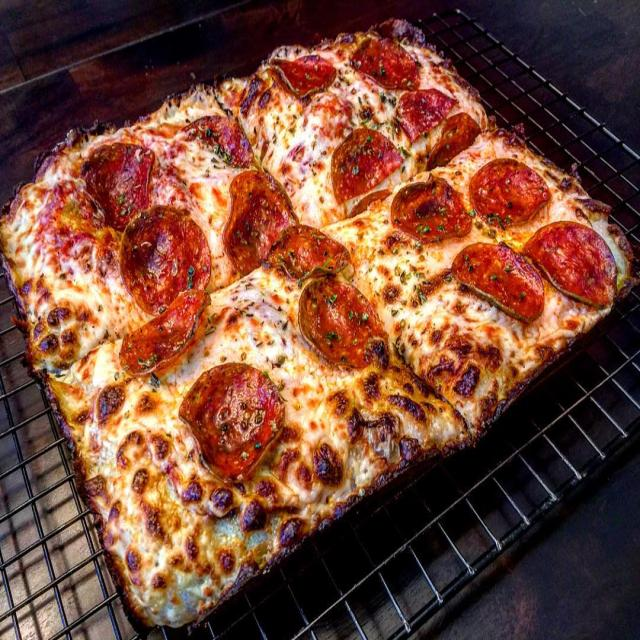pepperoni: (179, 362, 288, 485), (116, 205, 212, 315), (110, 288, 212, 381), (298, 273, 388, 378), (524, 218, 622, 309), (216, 169, 302, 271), (450, 238, 546, 324), (327, 124, 407, 220), (75, 140, 155, 230), (468, 158, 552, 230), (256, 220, 354, 280), (385, 176, 472, 243), (176, 104, 253, 171), (347, 37, 423, 96), (394, 84, 459, 146), (421, 109, 485, 168), (266, 51, 336, 101)
pizza: (0, 16, 640, 640)
